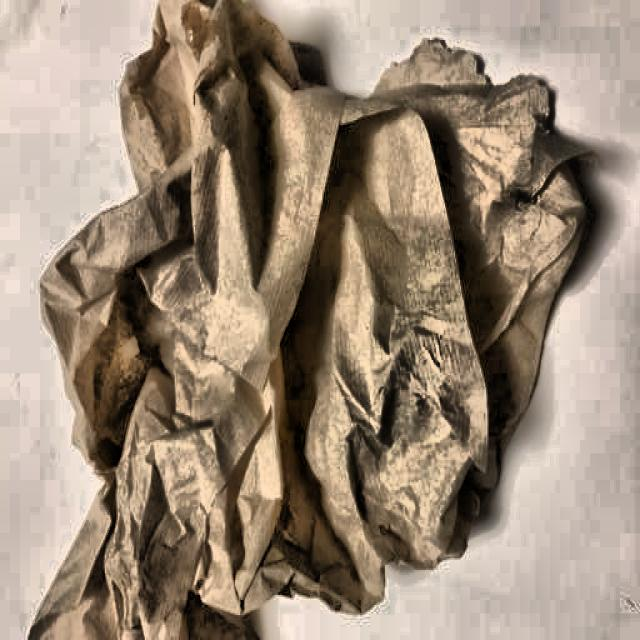trash: (118, 32, 450, 584)
